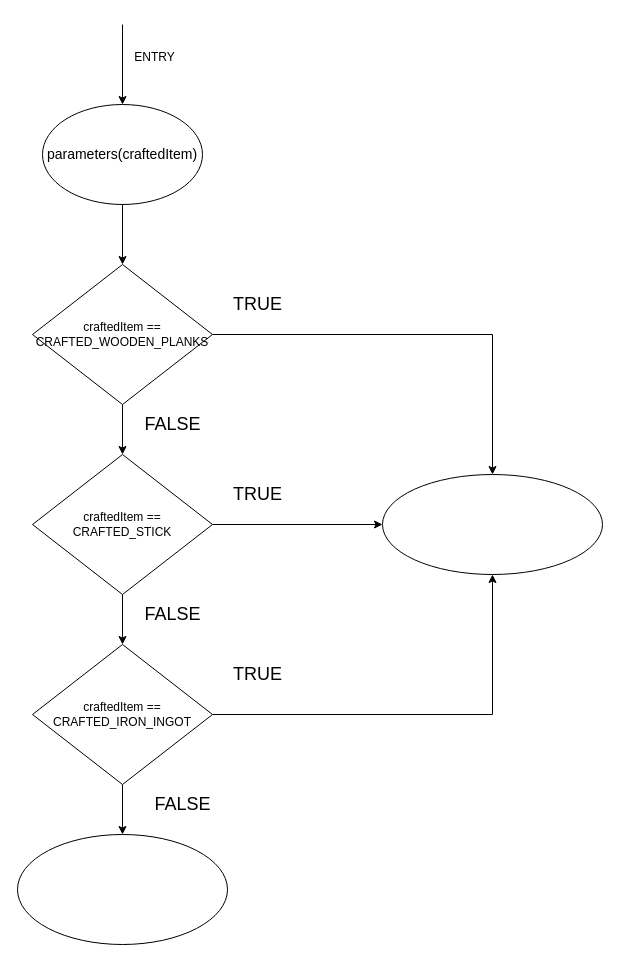
Some shapes in this 620 by 962 pixel diagram are drawn without their labels. The box of each missing label's shape, as (x1, y1, x2, y2) in pixels:
RETURN an empty String: (16, 834, 228, 944)
RETURN Code for Brown: (382, 474, 602, 574)
